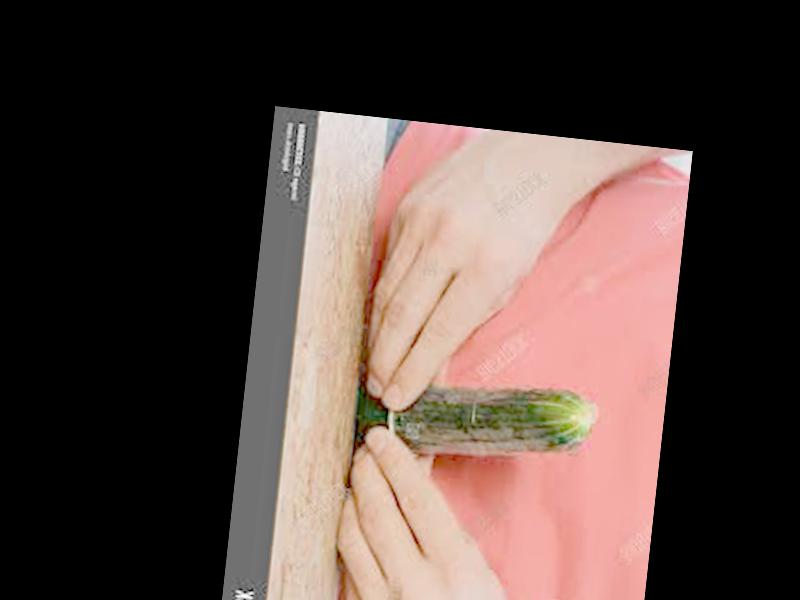Cucumber: (354, 367, 597, 470)
